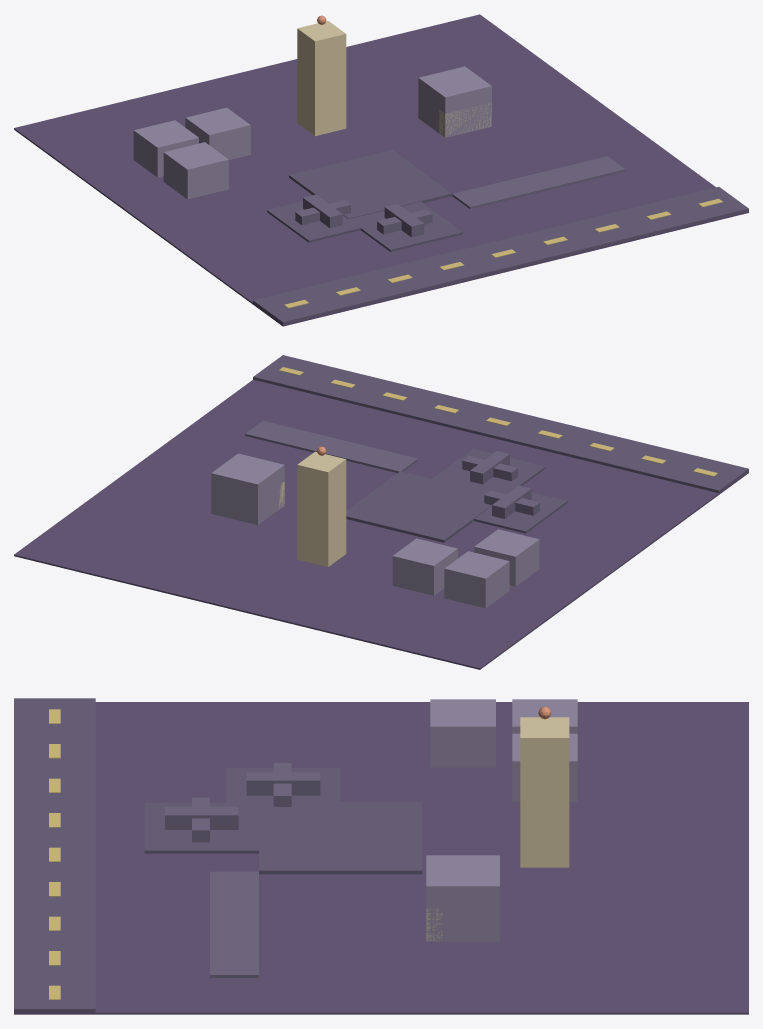
Rendered from stage_09.glb.
3 views of the same model, one above another, from view 1: azimuth 30°, elevation 25°; view 2: azimuth 150°, elevation 25°; view 3: azimuth 270°, elevation 25° (orthographic). The views are drawn at different scales.
Parts seen in each view (by area): view 1: geometry_0; view 2: geometry_0; view 3: geometry_0.
Boxes of the visible parts, x1,y1,x2,y2 form: geometry_0: [14, 14, 748, 326]; geometry_0: [14, 355, 748, 669]; geometry_0: [14, 698, 748, 1014].
Bounding box in the file's own units: 9 × 2.06 × 9.
